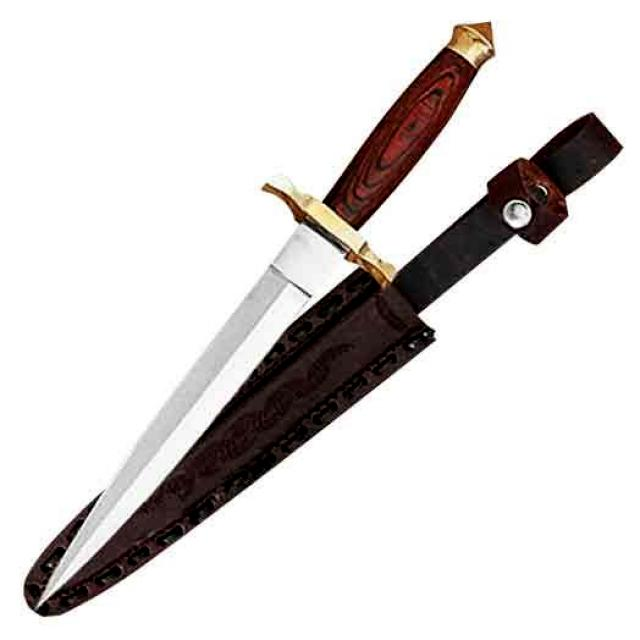short sword: (14, 16, 633, 617)
